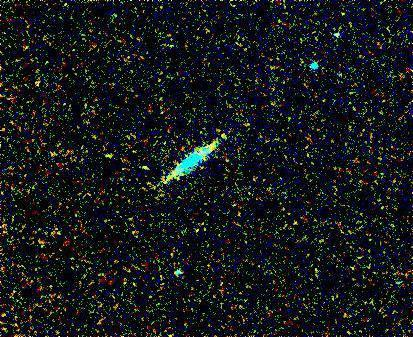star: (209, 120, 239, 150)
